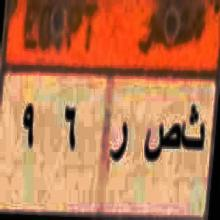6: (64, 104, 77, 154)
9: (20, 103, 36, 149)
raa: (109, 119, 128, 171)
saad: (144, 116, 180, 173)
thaa: (181, 100, 205, 162)
